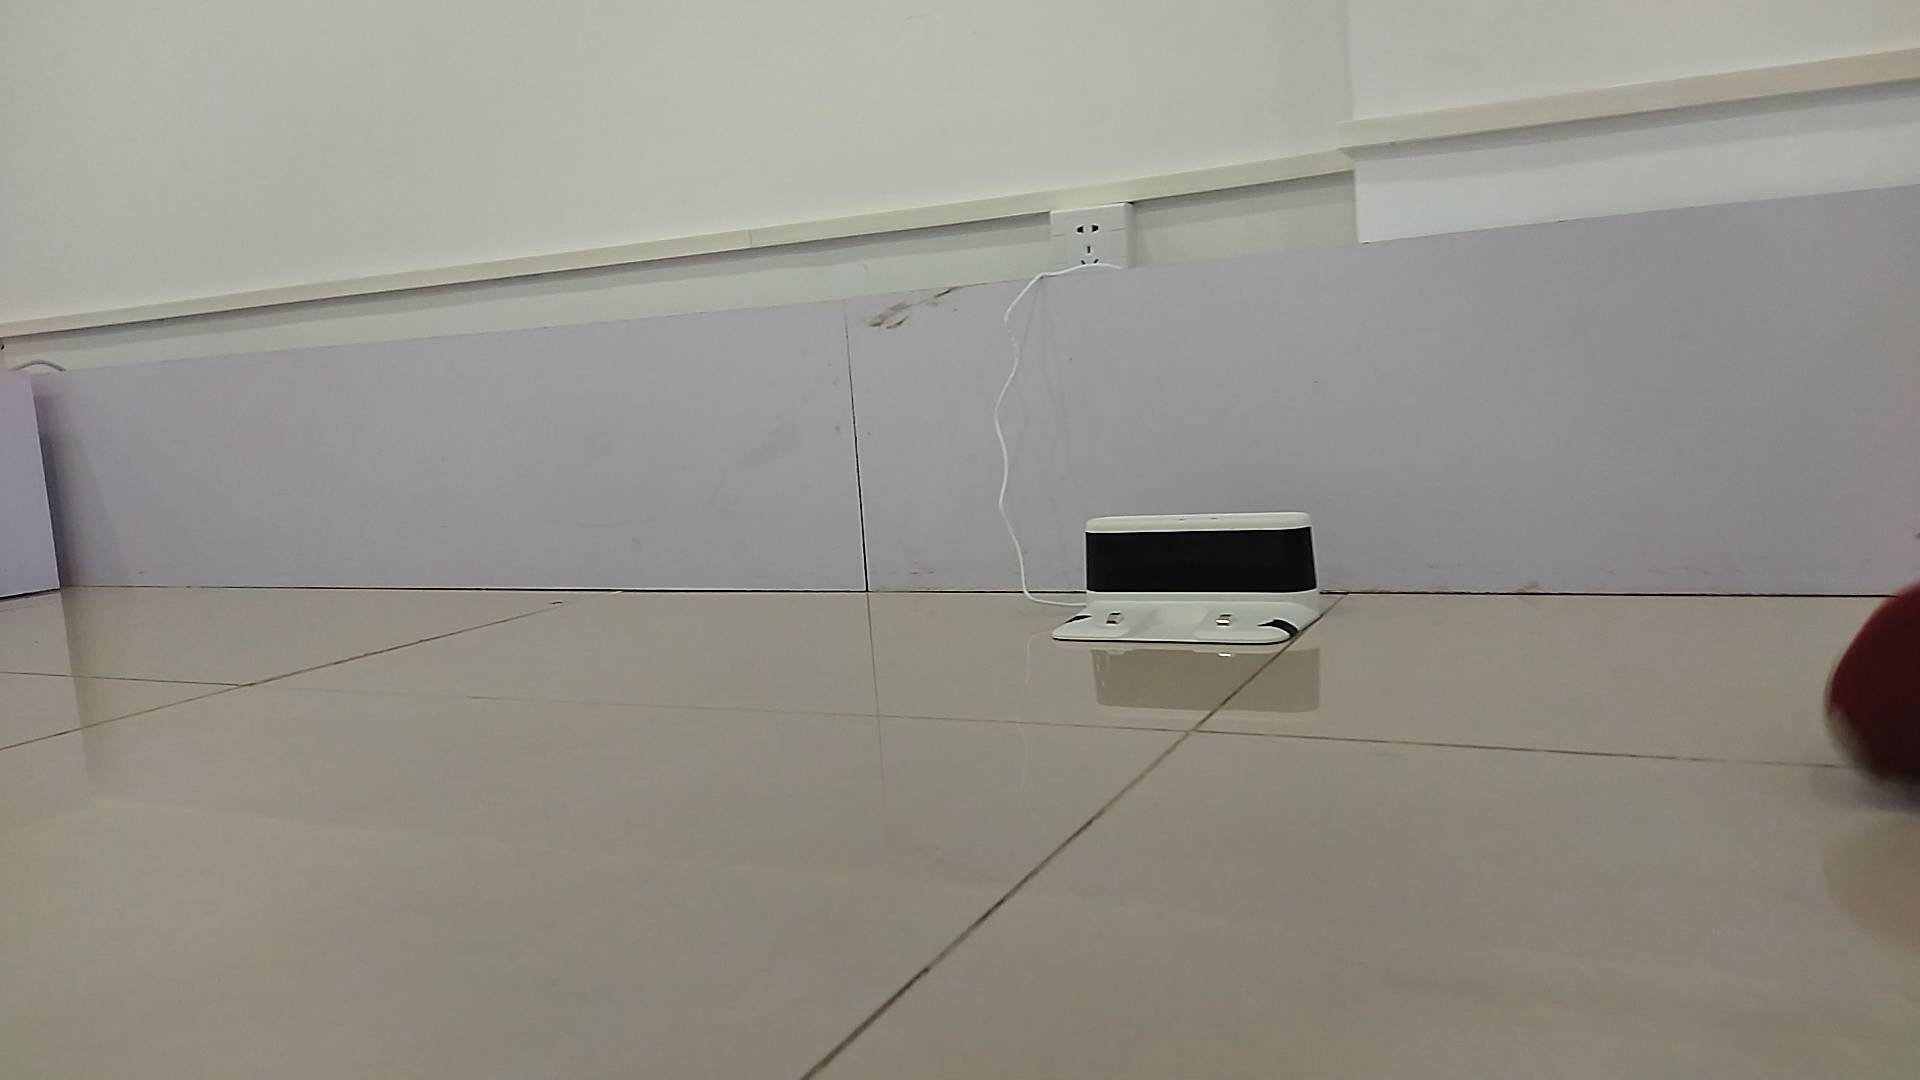recharge seat: (1052, 512, 1321, 645)
